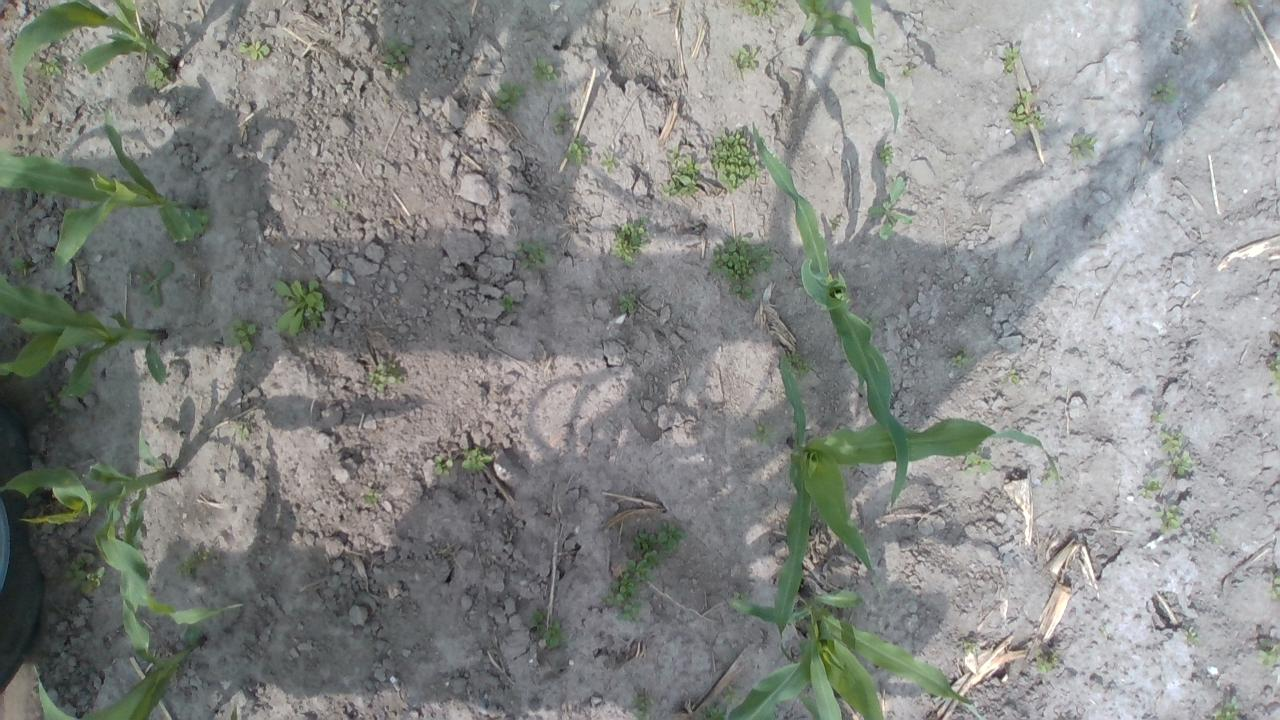Maize: (774, 354, 1062, 635), (750, 120, 910, 507), (0, 429, 242, 619), (35, 490, 204, 720), (720, 583, 973, 720), (0, 110, 190, 270), (0, 270, 166, 395), (9, 0, 175, 108), (795, 0, 900, 136)
Weeds: (601, 518, 688, 622), (709, 234, 774, 302), (709, 126, 762, 194), (271, 277, 326, 337), (868, 176, 912, 241), (613, 215, 650, 268), (661, 147, 700, 197), (1008, 90, 1048, 132), (1158, 430, 1192, 477), (530, 608, 568, 648), (64, 558, 106, 594), (138, 262, 172, 306), (494, 78, 532, 112), (366, 360, 406, 392), (513, 239, 552, 270), (379, 38, 408, 76), (547, 102, 577, 136), (228, 318, 258, 352), (1155, 501, 1183, 535), (562, 137, 592, 168), (784, 350, 816, 378), (528, 56, 562, 82), (964, 445, 994, 474), (182, 206, 210, 236), (462, 447, 492, 474), (144, 60, 170, 90), (734, 0, 779, 17), (747, 418, 776, 444), (1210, 694, 1239, 720), (32, 57, 65, 78), (8, 256, 38, 278), (1150, 78, 1176, 103), (172, 552, 195, 580), (1254, 642, 1280, 666), (631, 692, 653, 720), (239, 41, 271, 60), (734, 46, 759, 70), (1036, 648, 1060, 672), (1072, 136, 1096, 160), (432, 452, 454, 478), (950, 348, 975, 369), (1002, 46, 1021, 72), (1140, 478, 1162, 499), (702, 704, 730, 720), (1268, 350, 1280, 384), (1182, 627, 1201, 646), (598, 154, 618, 172), (878, 142, 893, 165), (618, 294, 636, 312), (862, 312, 879, 330), (1005, 367, 1021, 386), (722, 686, 736, 706), (501, 294, 514, 314), (1209, 528, 1225, 544), (962, 639, 978, 655), (731, 590, 751, 602), (1271, 576, 1280, 602), (192, 550, 209, 563), (236, 425, 250, 440), (367, 490, 381, 505), (1044, 468, 1058, 483), (1232, 0, 1249, 8), (901, 66, 912, 78), (1154, 414, 1164, 422)
